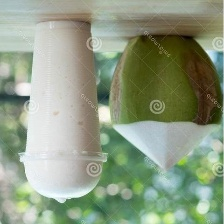glass: (11, 15, 112, 205)
